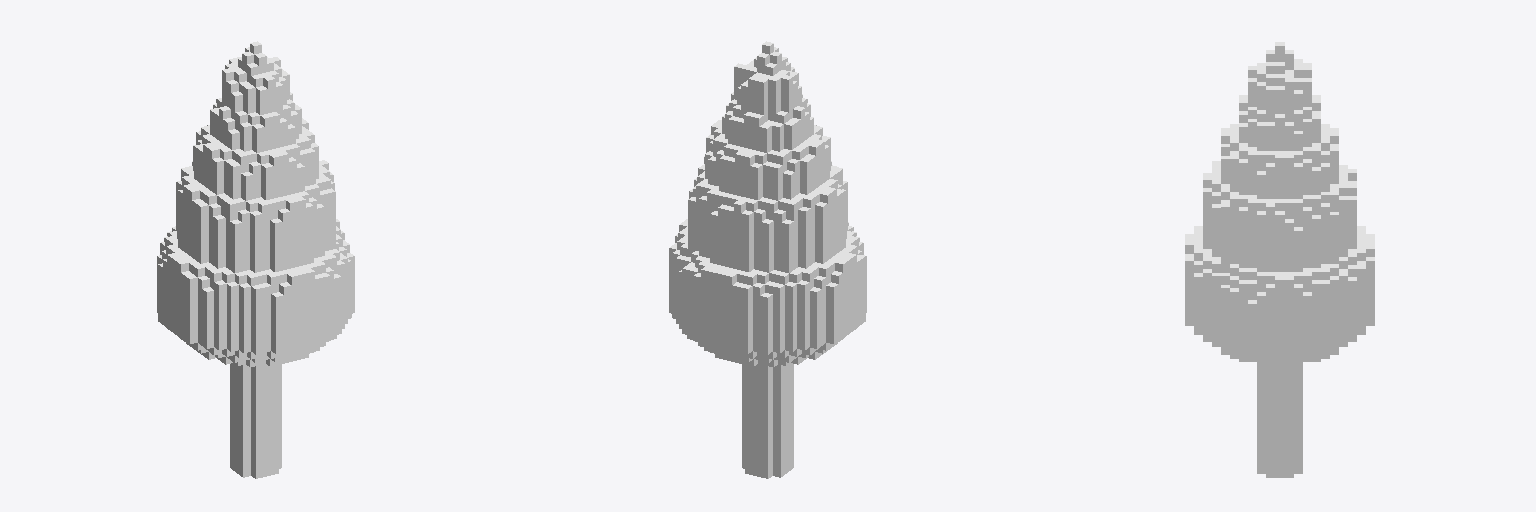
File: Sapin_2_neige.obj
3 renders of one model, left to right at view 1: azimuth 30°, elevation 25°; view 2: azimuth 150°, elevation 25°; view 3: azimuth 270°, elevation 25°, orthographic.
Bounding box in the file's own units: 21 × 52 × 21.